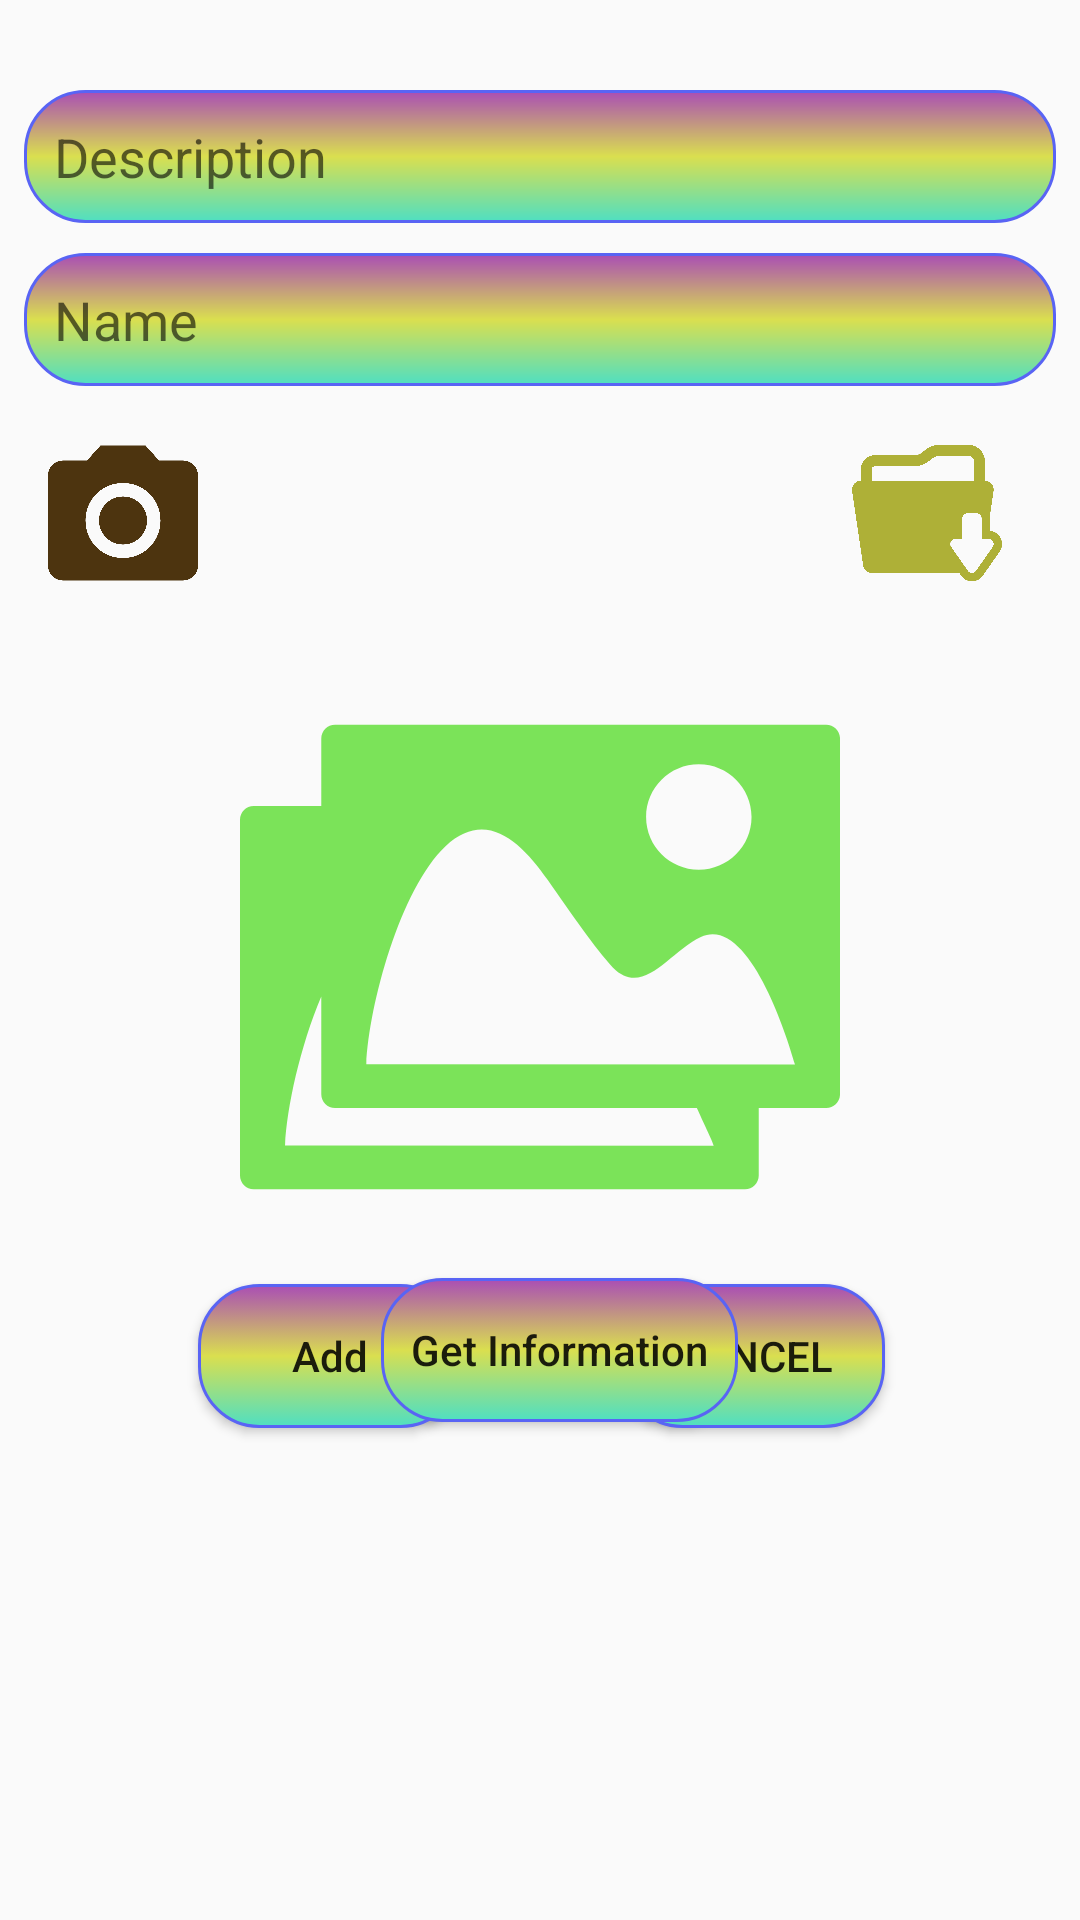

Named icons in this screenshot (1080 x 1920) and their bounding boxes, [x1, y1, x2, y2]:
camera: [48, 445, 198, 581]
download open folder: [852, 445, 1002, 581]
